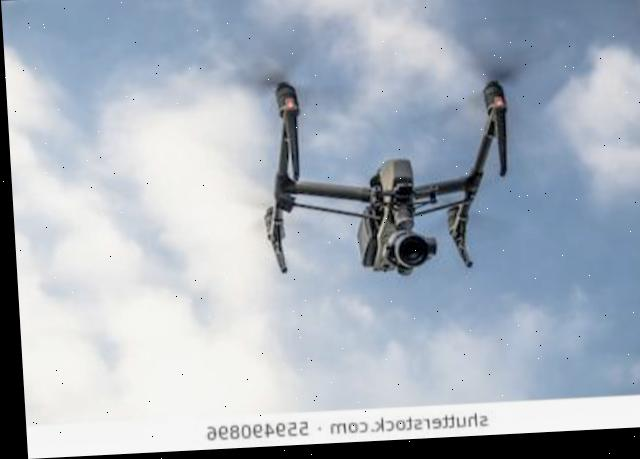drone: (215, 40, 547, 292)
